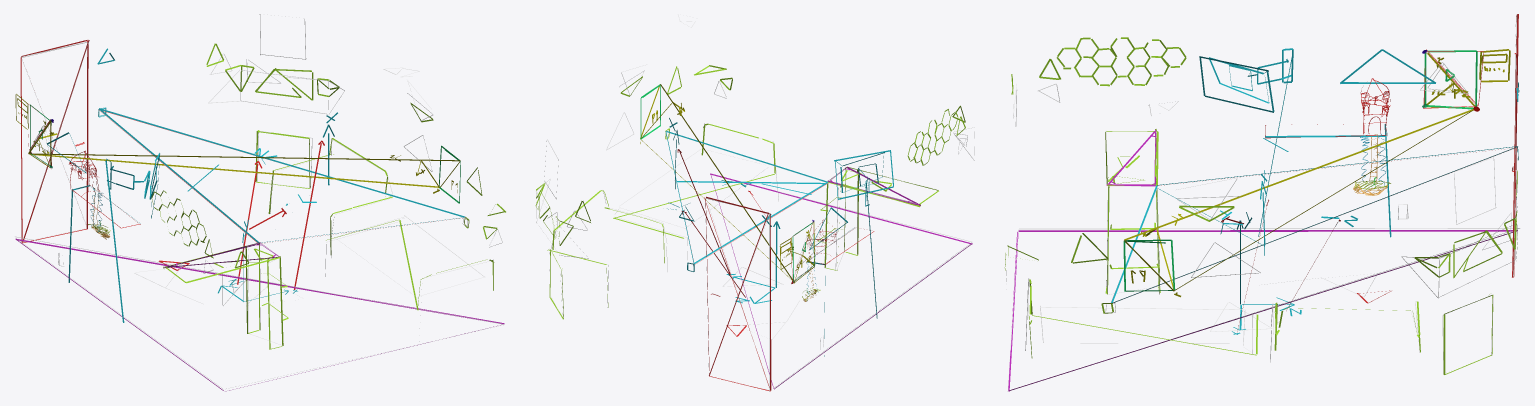
File: AirBNB_Charleroi_Gilly.fbx
The picture shows the model from 3 angles, left to right: view 1: azimuth 30°, elevation 25°; view 2: azimuth 150°, elevation 25°; view 3: azimuth 270°, elevation 25°; orthographic projection. The views are drawn at different scales.
Parts seen in each view (by area): view 1: brush_Light_g0_b0.002, brush_Light_g0_b1, brush_Light_g0_b0.003, brush_Light_g0_b0.004; view 2: brush_Light_g0_b0.002, brush_Light_g0_b1, brush_Light_g0_b0.003, brush_Light_g0_b0.004; view 3: brush_Light_g0_b0.002, brush_Light_g0_b1, brush_Light_g0_b0.003, brush_Light_g0_b0.004.
Boxes of the visible parts, x1,y1,x2,y2 form: brush_Light_g0_b0.002: (20, 40, 505, 349); brush_Light_g0_b1: (15, 94, 504, 391); brush_Light_g0_b0.003: (15, 14, 504, 388); brush_Light_g0_b0.004: (27, 103, 462, 243); brush_Light_g0_b0.002: (535, 65, 965, 391); brush_Light_g0_b1: (640, 84, 972, 389); brush_Light_g0_b0.003: (536, 14, 974, 391); brush_Light_g0_b0.004: (688, 183, 874, 301); brush_Light_g0_b0.002: (1004, 14, 1519, 374); brush_Light_g0_b1: (1008, 47, 1517, 391); brush_Light_g0_b0.003: (1006, 14, 1519, 391); brush_Light_g0_b0.004: (1111, 49, 1511, 301).
Size of the model in its own units: 359 by 268 by 463.
